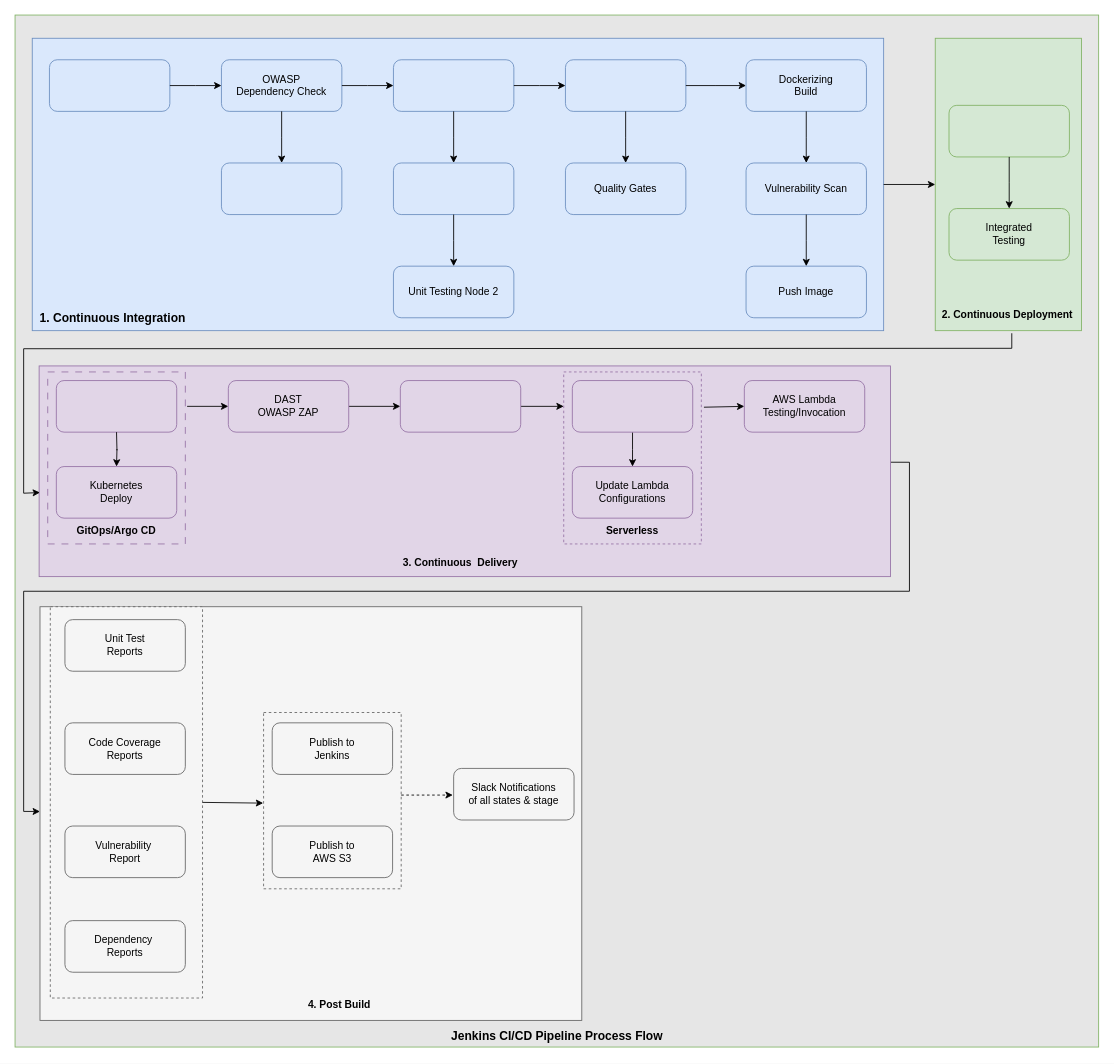
Some shapes in this 1114 by 1064 pixel diagram are drawn without their labels. The shapes that lost their labels are listed below. From the top down, each one's centre as x and y in pixels, then its label:
At point 109,85: "Build/ Install Dependencies".
At point 453,85: "Code Coverage".
At point 625,85: "SAST".
At point 1008,130: "VM/EC2 Deploy".
At point 281,188: "Like NPM Dependency Audits".
At point 453,188: "Unit Testing Node 1".
At point 116,406: "Update Docker Image Tags".
At point 460,406: "Approval Stage".
At point 632,406: "AWS Lambda Deploy".
